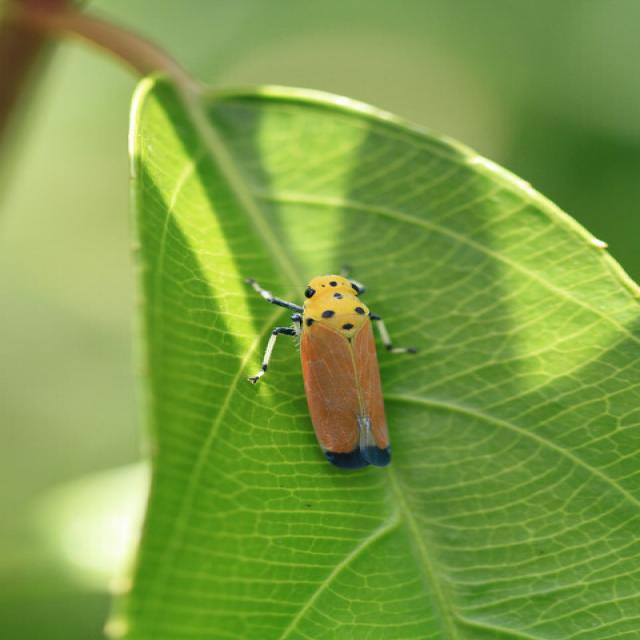Yechan: (235, 258, 432, 473)
